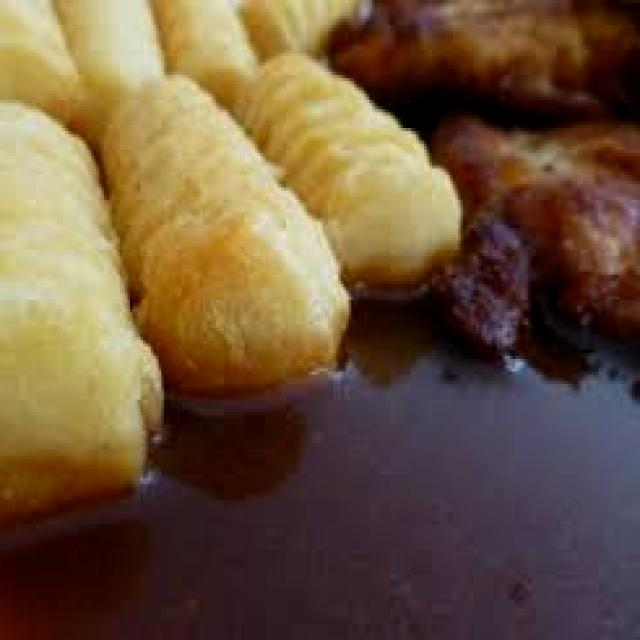wet: (8, 142, 440, 418), (449, 118, 635, 342), (0, 8, 326, 106), (337, 7, 634, 96)
